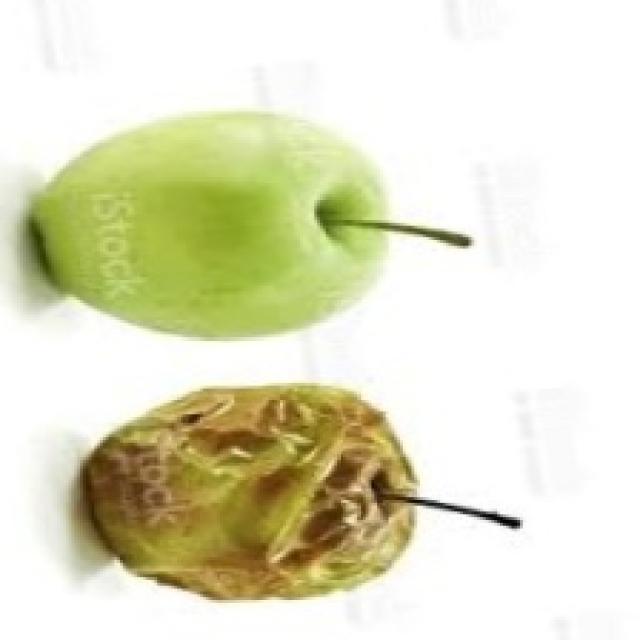rotten_apple: (90, 389, 415, 589)
